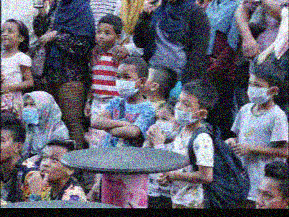mask_weared_incorrect: (172, 94, 200, 126)
with_mask: (114, 70, 140, 98), (245, 76, 271, 104), (154, 112, 178, 139), (21, 99, 40, 123)
without_mask: (36, 150, 70, 181), (254, 182, 286, 208), (1, 27, 20, 48), (96, 25, 115, 46)
